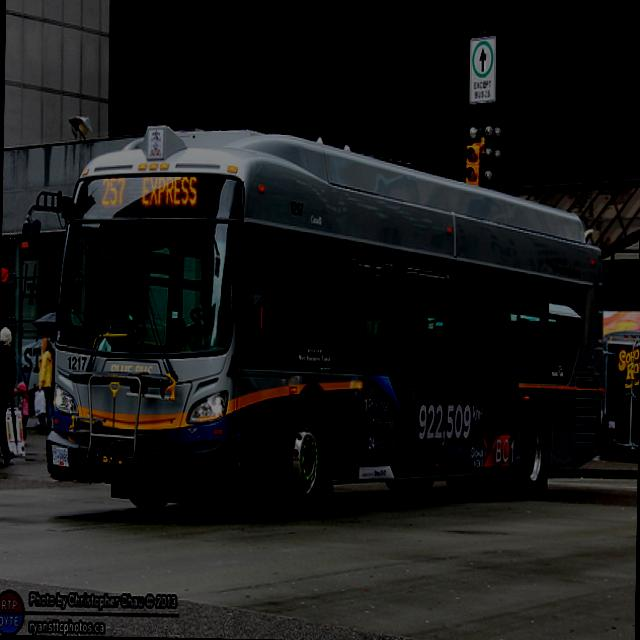Vehicle: (49, 122, 608, 518)
